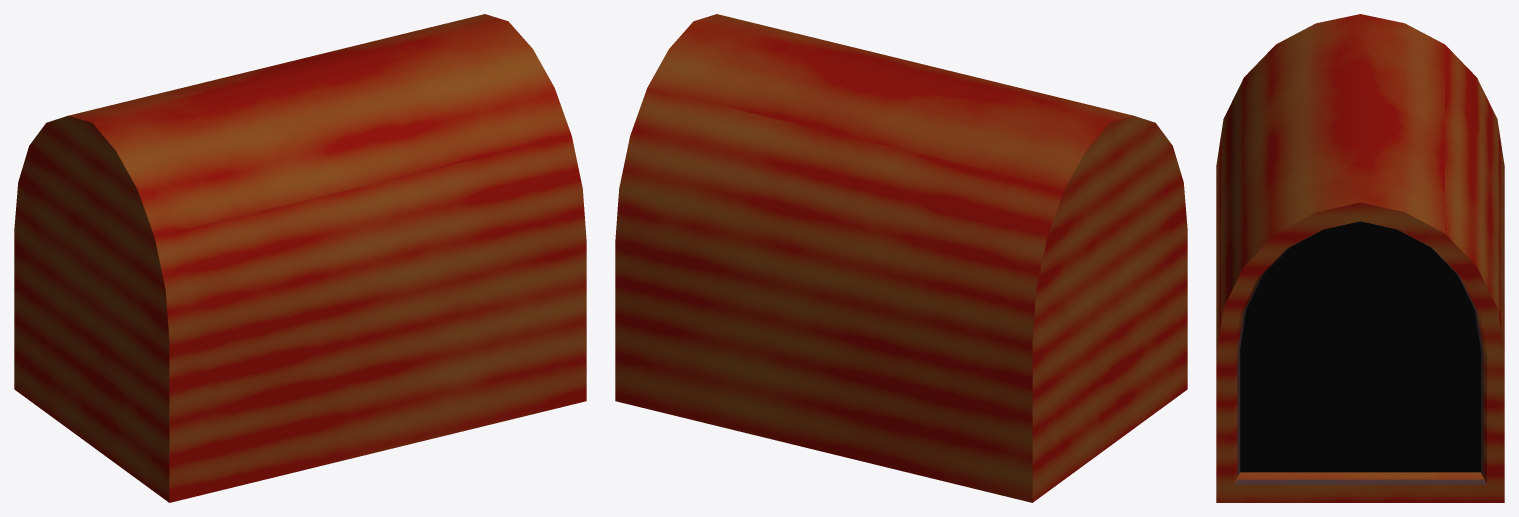
The model's file is Kennel_3.fbx.
3 renders of one model, left to right at view 1: azimuth 30°, elevation 25°; view 2: azimuth 150°, elevation 25°; view 3: azimuth 270°, elevation 25°, orthographic. The views are drawn at different scales.
Visible parts, largest first — view 1: Kennel 3 EXP; view 2: Kennel 3 EXP; view 3: Kennel 3 EXP.
Part boxes in pixels (box(x1,y1,x2,y2)): Kennel 3 EXP: box(14, 14, 586, 502); Kennel 3 EXP: box(615, 14, 1187, 502); Kennel 3 EXP: box(1216, 14, 1504, 502).
Bounding box in the file's own units: 155 × 115 × 99.9.
1 material, 1 textured.
